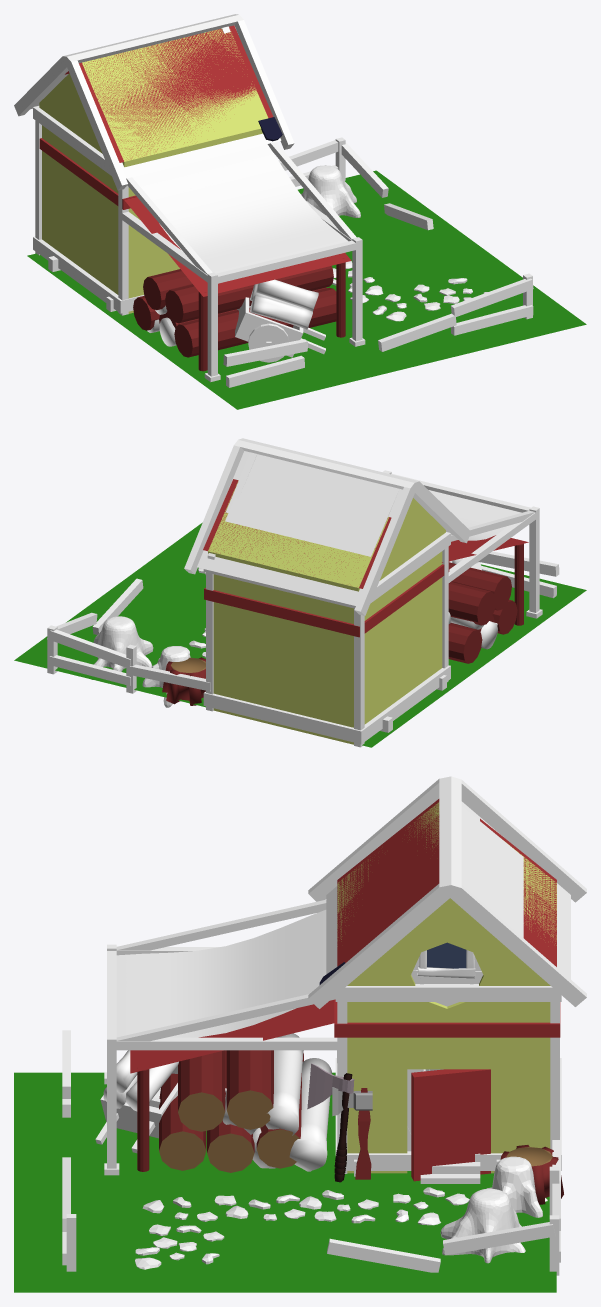
File: Woodyard2356.glb
3 renders of one model, top to bottom at view 1: azimuth 30°, elevation 25°; view 2: azimuth 150°, elevation 25°; view 3: azimuth 270°, elevation 25°, orthographic. The views are drawn at different scales.
Parts seen in each view (by area): view 1: Plane, Cube, Plane.002, Cube.001, Cube.033, Cylinder.003, Cylinder.002, Plane.001, Cylinder.009, Cube.015, Cylinder.007, Cube.011 (+23 smaller); view 2: Cube, Plane, Cube.006, Cube.033, Cube.011, Cube.004, Cube.015, Cylinder.003, Cube.010, Cylinder.007, Cylinder.002, Plane.002 (+21 smaller); view 3: Plane, Cube, Plane.002, Cube.033, Cube.001, Cube.005, Cylinder.003, Cube.006, Cylinder.002, Cylinder.005, Cube.004, Cube.010 (+23 smaller).
Boxes of the visible parts, x1,y1,x2,y2 form: Plane: [27, 170, 586, 409]; Cube: [39, 28, 268, 313]; Plane.002: [132, 144, 347, 273]; Cube.001: [65, 25, 273, 162]; Cube.033: [14, 14, 294, 190]; Cylinder.003: [143, 266, 333, 323]; Cylinder.002: [133, 287, 336, 357]; Plane.001: [124, 195, 351, 296]; Cylinder.009: [250, 279, 318, 329]; Cube.015: [30, 27, 281, 178]; Cylinder.007: [301, 165, 360, 217]; Cube.011: [33, 236, 144, 313]; Cube: [208, 480, 445, 744]; Plane: [14, 522, 586, 747]; Cube.006: [225, 454, 399, 556]; Cube.033: [184, 438, 470, 615]; Cube.011: [203, 665, 450, 744]; Cube.004: [204, 561, 449, 637]; Cube.015: [197, 451, 452, 605]; Cylinder.003: [448, 562, 511, 625]; Cube.010: [203, 532, 450, 608]; Cylinder.007: [91, 616, 153, 679]; Cylinder.002: [448, 599, 517, 663]; Plane.002: [429, 490, 521, 540]; Plane: [14, 1072, 556, 1292]; Cube: [337, 802, 556, 1173]; Plane.002: [116, 910, 326, 1037]; Cube.033: [308, 776, 586, 1008]; Cube.001: [337, 799, 556, 966]; Cube.005: [411, 1069, 490, 1181]; Cylinder.003: [178, 1050, 273, 1131]; Cube.006: [407, 806, 523, 1151]; Cylinder.002: [159, 1050, 303, 1172]; Cylinder.005: [222, 1033, 331, 1171]; Cube.004: [334, 999, 560, 1037]; Cube.010: [335, 984, 561, 1001].
Size of the model in its own units: 8.27 by 5.46 by 9.08.
